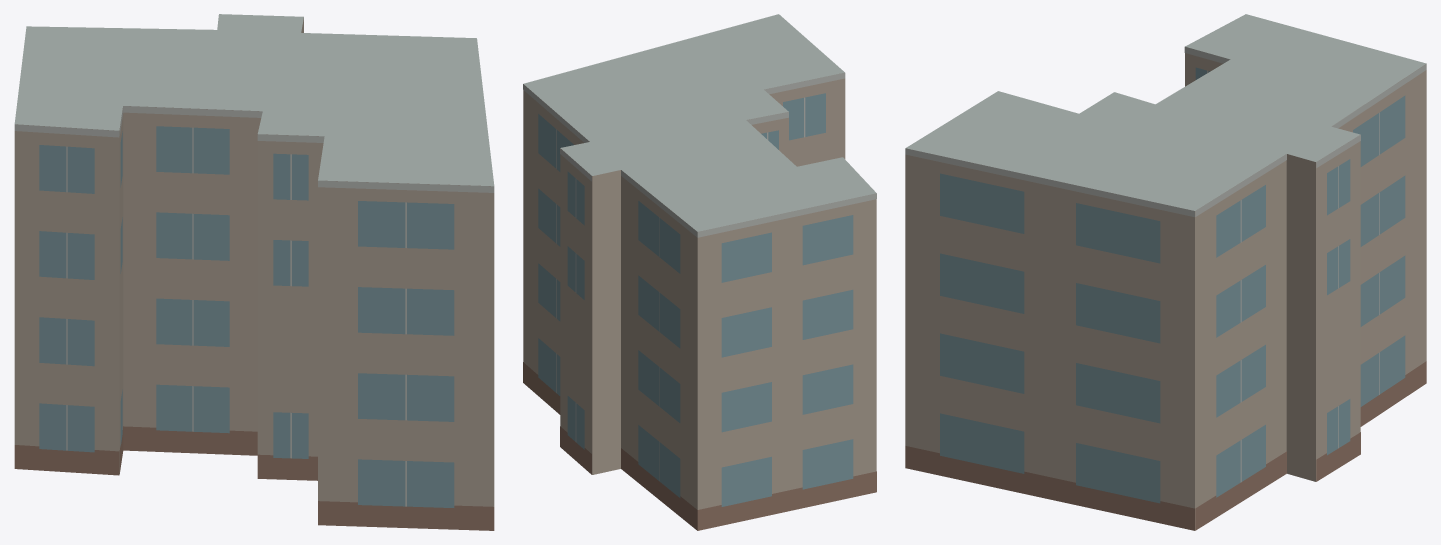
The model's file is survey-upis-32935174.glb.
3 views of the same model, side by side, from view 1: azimuth 30°, elevation 25°; view 2: azimuth 150°, elevation 25°; view 3: azimuth 270°, elevation 25° (orthographic). The views are drawn at different scales.
Visible parts, largest first — view 1: survey-upis-32935174.tmp; view 2: survey-upis-32935174.tmp; view 3: survey-upis-32935174.tmp.
Part boxes in pixels (x1,y1,x2,y2): survey-upis-32935174.tmp: (14,14,494,530); survey-upis-32935174.tmp: (523,14,876,530); survey-upis-32935174.tmp: (905,14,1426,530).
Bounding box in the file's own units: 16.39 × 12.4 × 18.32.
